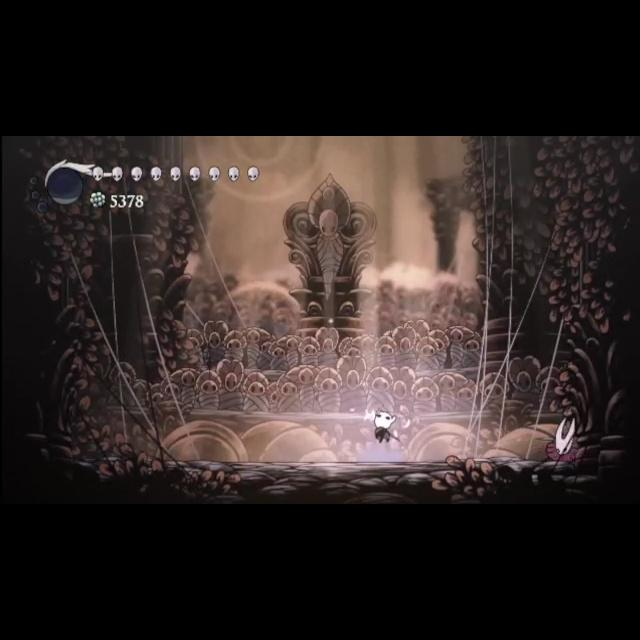EnemyLeadIn: (528, 412, 590, 466)
Player: (369, 405, 403, 447)
